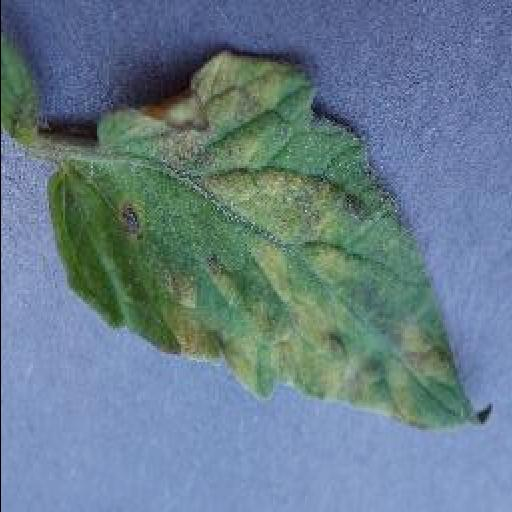disease_tomato: (46, 47, 482, 435)
